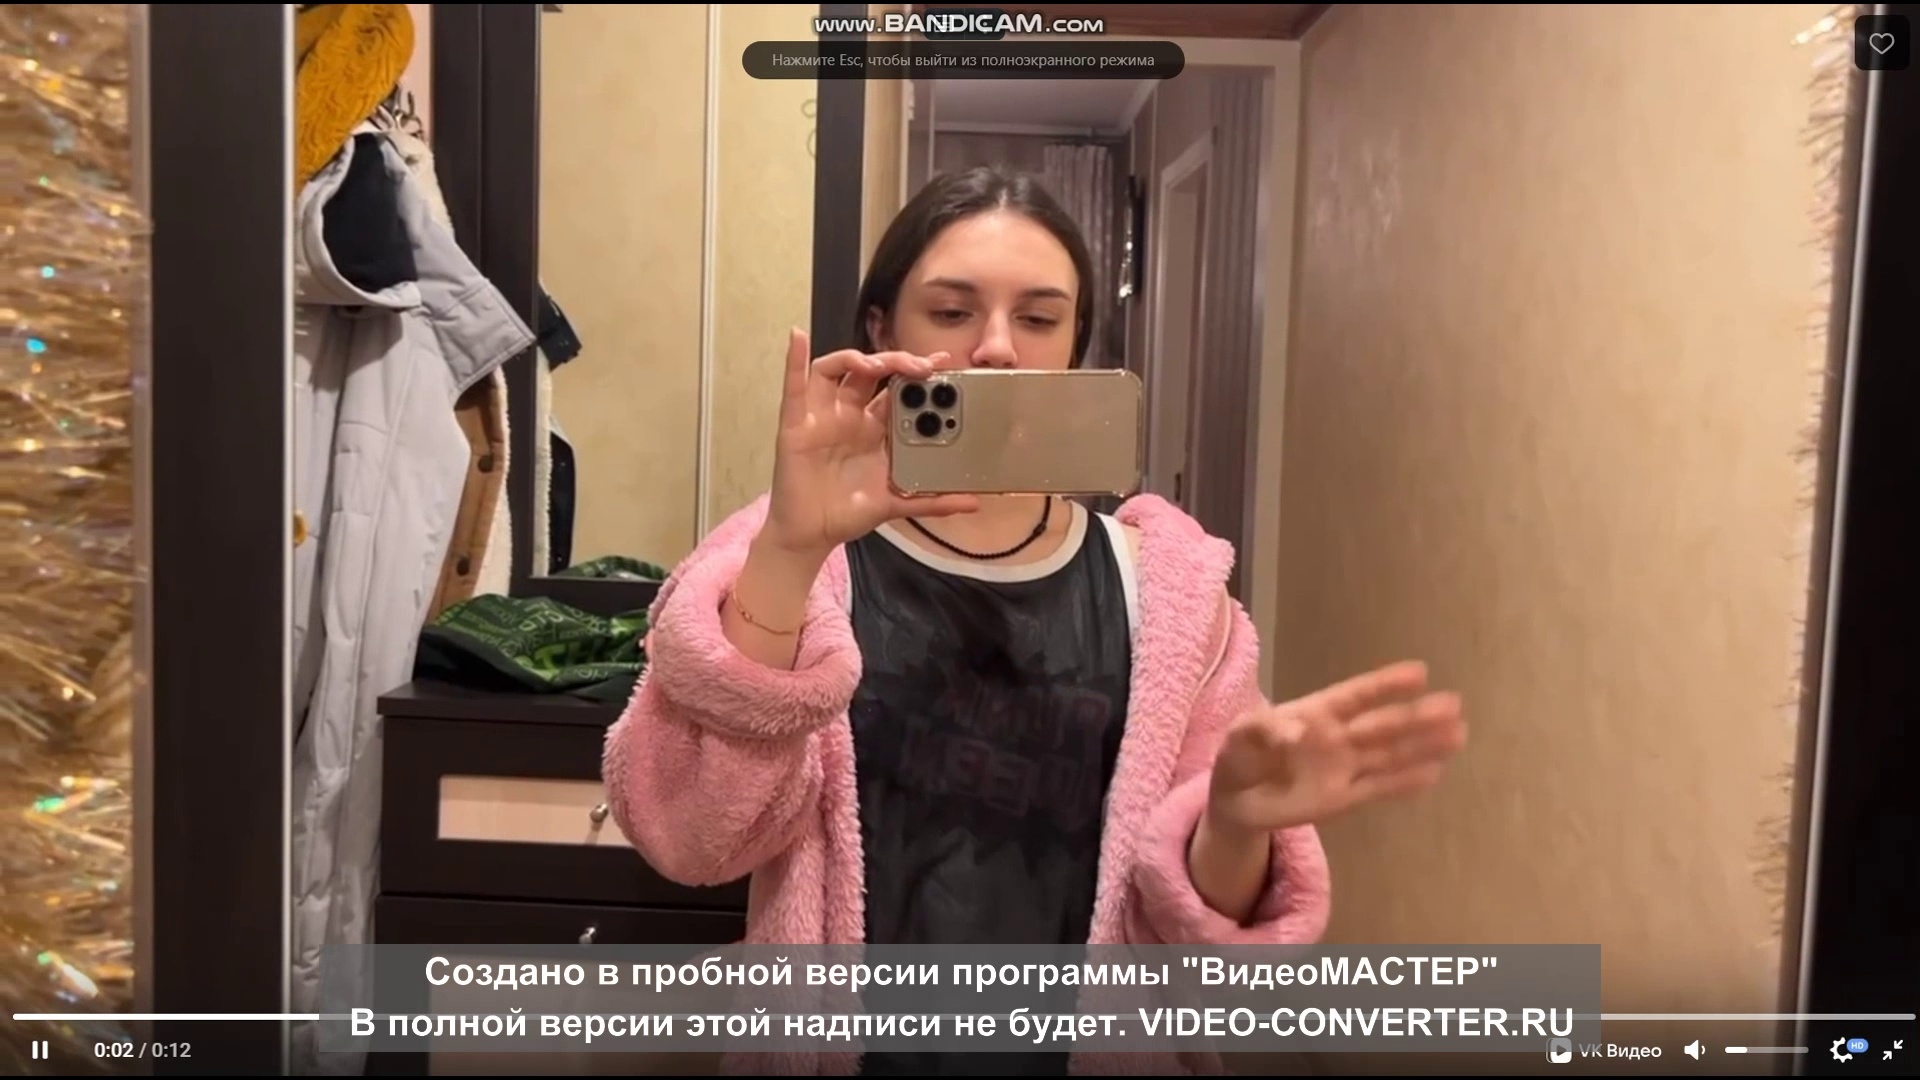Ладонь: (1196, 661, 1468, 835)
